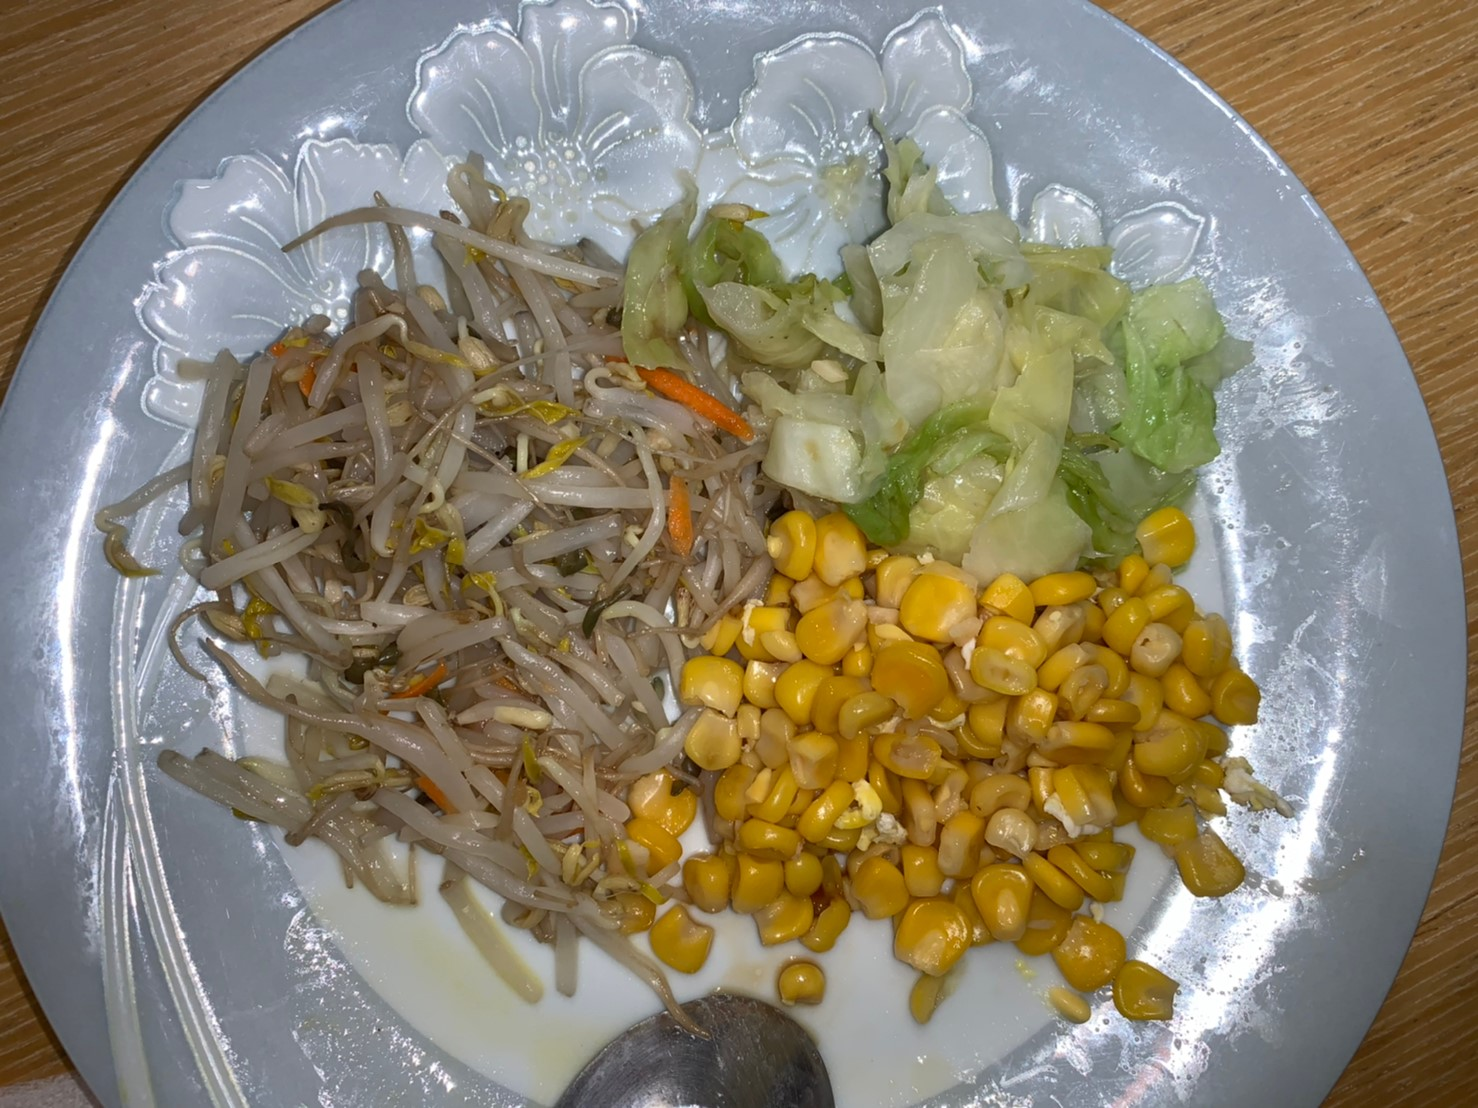chinese_cabbage: (730, 221, 1223, 547)
mung_bean_sprouts: (202, 263, 680, 926)
